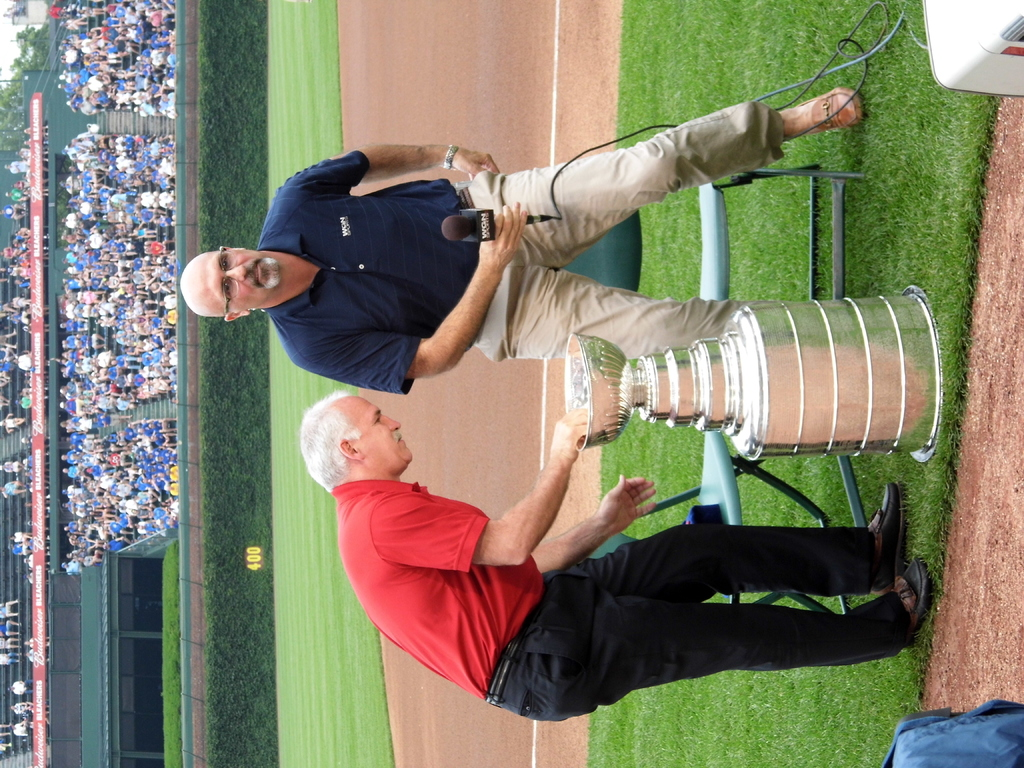Human_hand: (584, 481, 675, 555), (478, 200, 530, 270), (548, 406, 591, 471), (448, 147, 503, 182)
